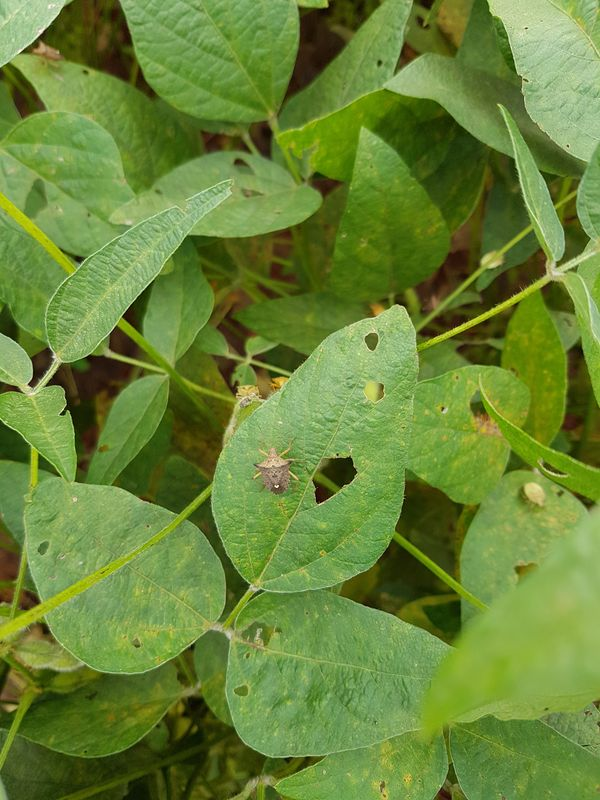Euschistus_heros_adulto: (242, 437, 305, 503), (26, 36, 69, 73)
Euschistus_heros_ninfa: (514, 474, 553, 514), (227, 376, 265, 410), (265, 370, 298, 398)
